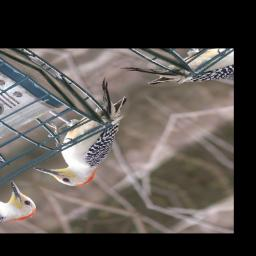Woodpecker: (0, 77, 182, 197)
